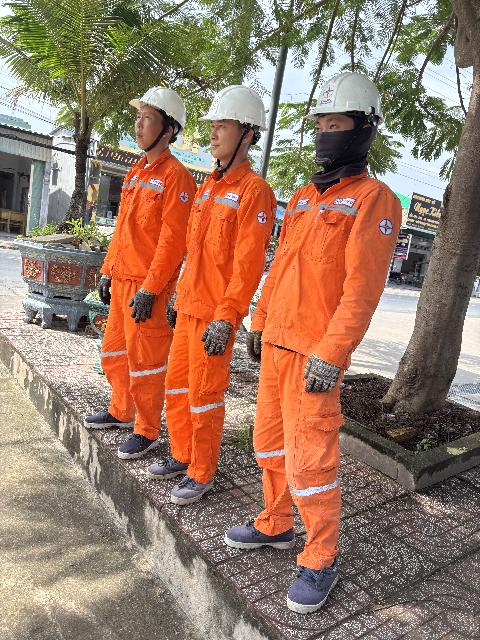gloves: (294, 347, 342, 397), (205, 313, 237, 358), (128, 281, 156, 322), (160, 290, 189, 326), (241, 326, 269, 362), (84, 274, 116, 304)
helmet: (298, 64, 392, 132), (129, 64, 204, 133), (196, 88, 271, 136)
shoes: (273, 540, 349, 614), (217, 508, 291, 556), (115, 420, 155, 463), (76, 405, 140, 431), (159, 472, 215, 501), (146, 449, 189, 481)
